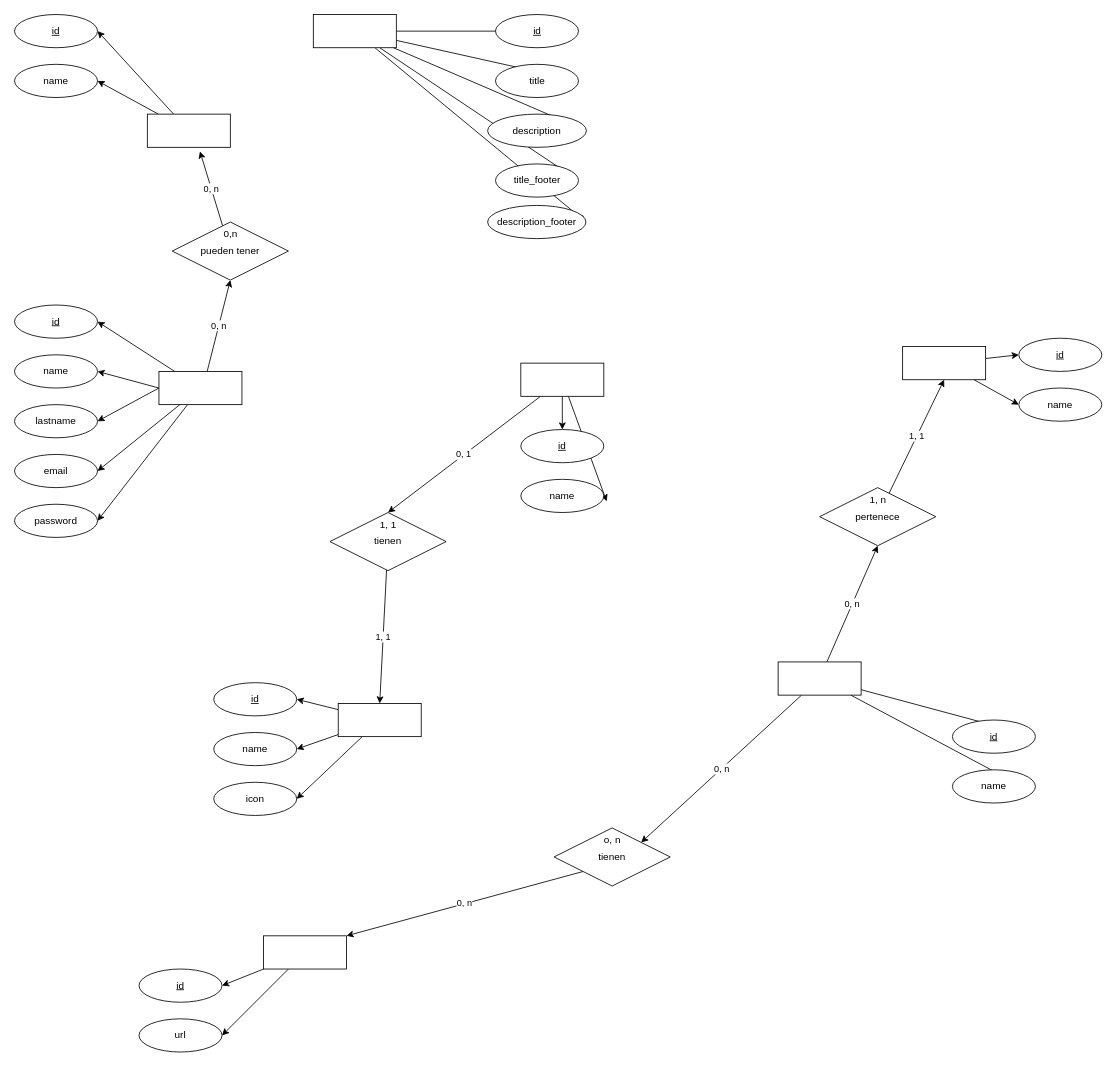
Image size: 1116x1067. Some labels were removed from this diagram. Each missing label, with the centre of its shape:
about: the point at 354,31
clients: the point at 819,678
clients_types: the point at 944,363
images: the point at 305,952
roles: the point at 188,130
scopes: the point at 562,379
tags: the point at 379,720
users: the point at 200,388
